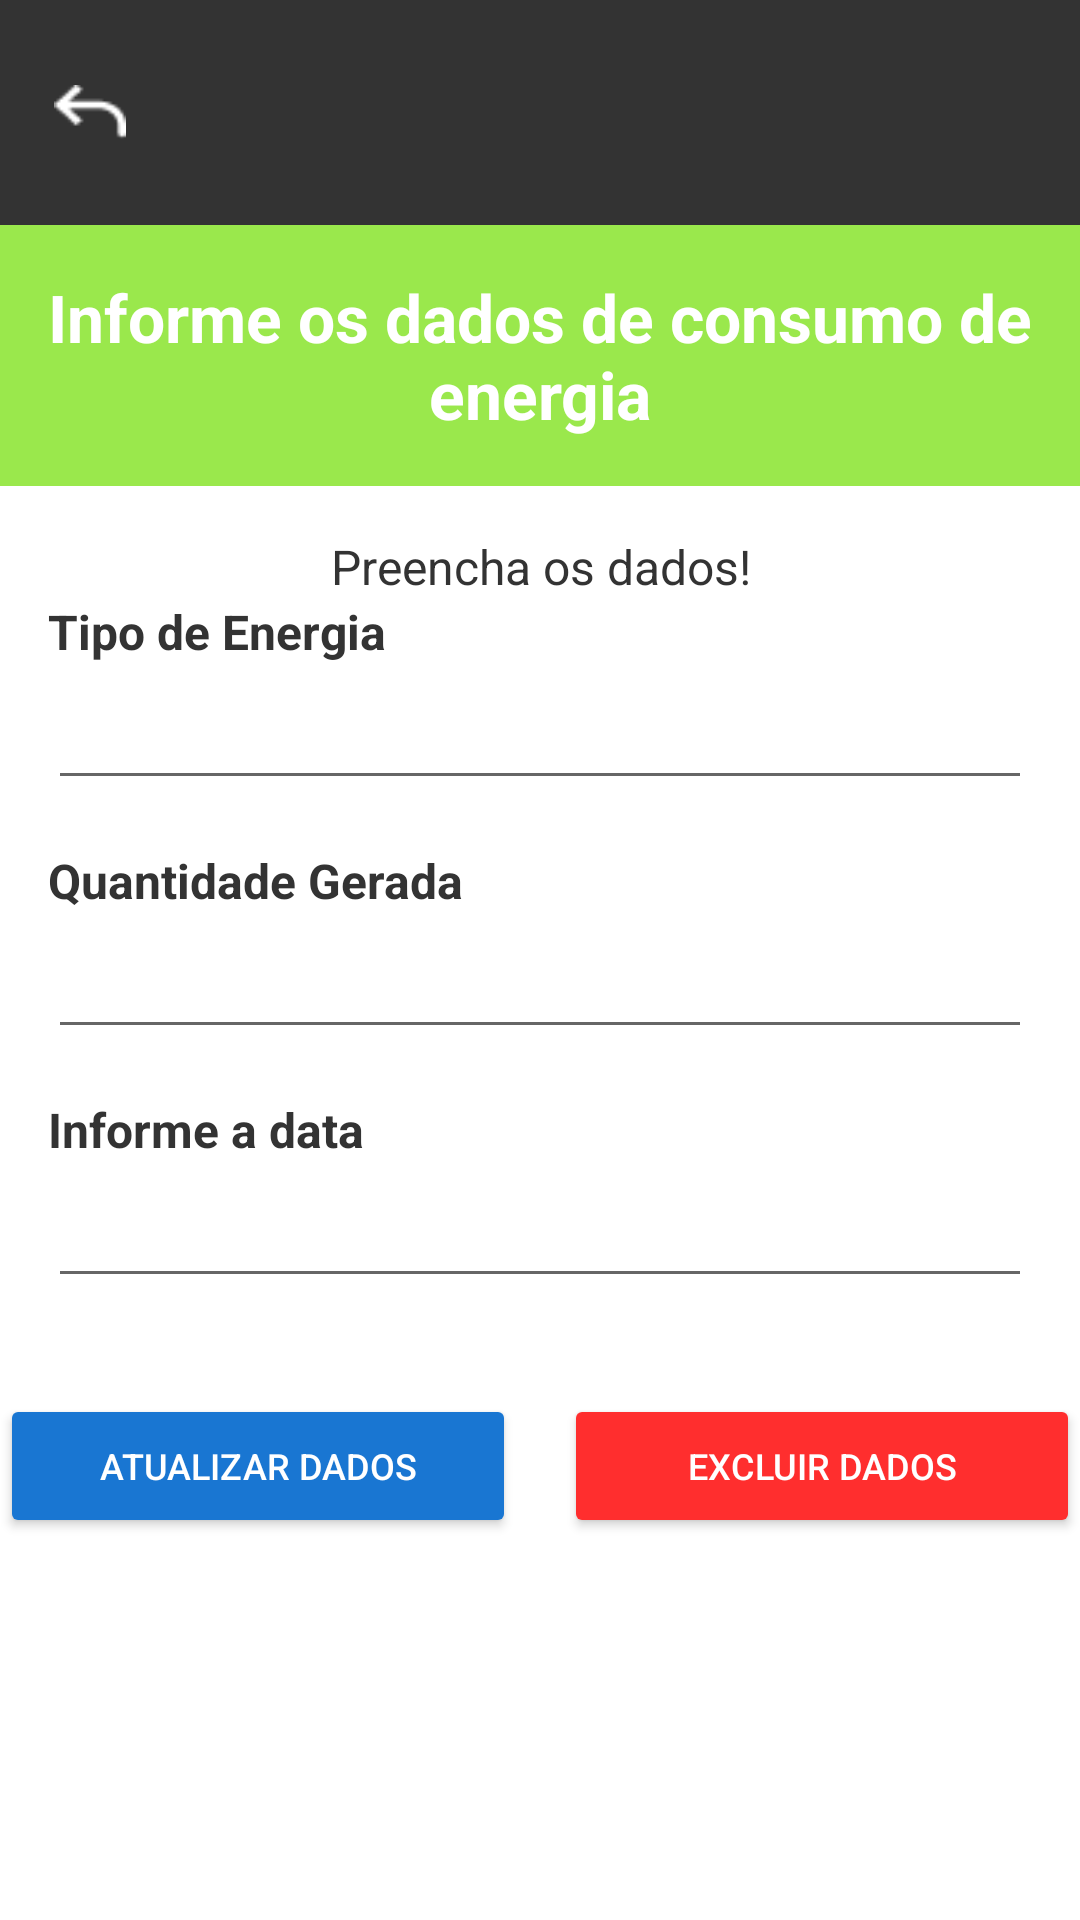

Named icons in this screenshot (1080px x 1920px) and their centers, [x,y]:
back: [90,111]
